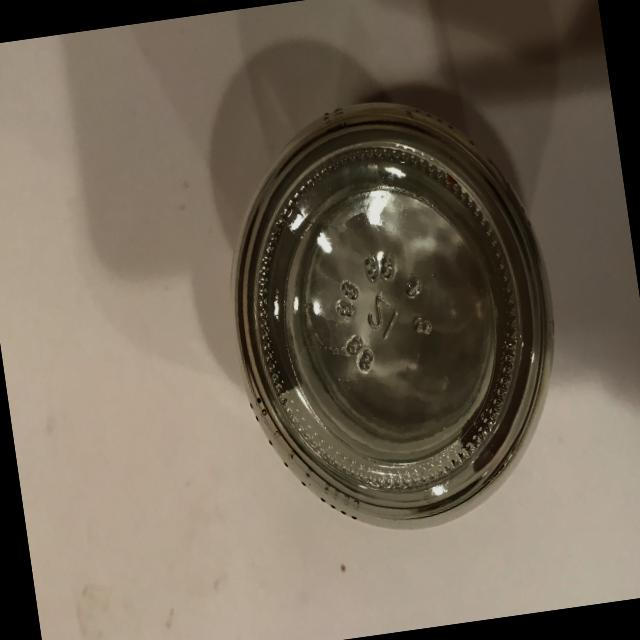Glass: (193, 68, 587, 560)
